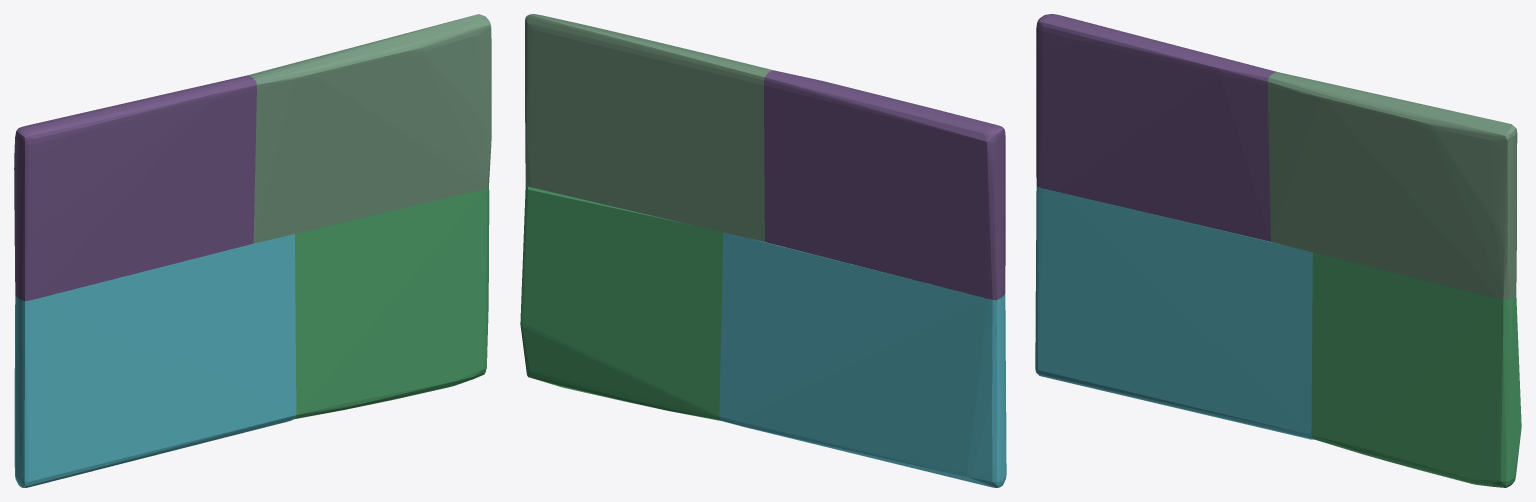
The model's file is coacd_collision.obj.
3 renders of one model, left to right at view 1: azimuth 30°, elevation 25°; view 2: azimuth 150°, elevation 25°; view 3: azimuth 330°, elevation 25°, orthographic.
Visible parts, largest first — view 1: geometry_2, geometry_1, geometry_0, geometry_3; view 2: geometry_2, geometry_1, geometry_0, geometry_3; view 3: geometry_2, geometry_0, geometry_1, geometry_3.
Part boxes in pixels (bbox=[...]): geometry_2: bbox=[14, 234, 296, 487]; geometry_1: bbox=[14, 75, 256, 301]; geometry_0: bbox=[248, 14, 491, 243]; geometry_3: bbox=[295, 186, 489, 418]; geometry_2: bbox=[719, 232, 1006, 487]; geometry_1: bbox=[764, 70, 1005, 299]; geometry_0: bbox=[525, 14, 772, 241]; geometry_3: bbox=[520, 185, 723, 420]; geometry_2: bbox=[1035, 186, 1313, 439]; geometry_0: bbox=[1267, 72, 1517, 300]; geometry_1: bbox=[1036, 14, 1276, 241]; geometry_3: bbox=[1311, 252, 1521, 487].
Size of the model in its own units: 210 by 154 by 13.
